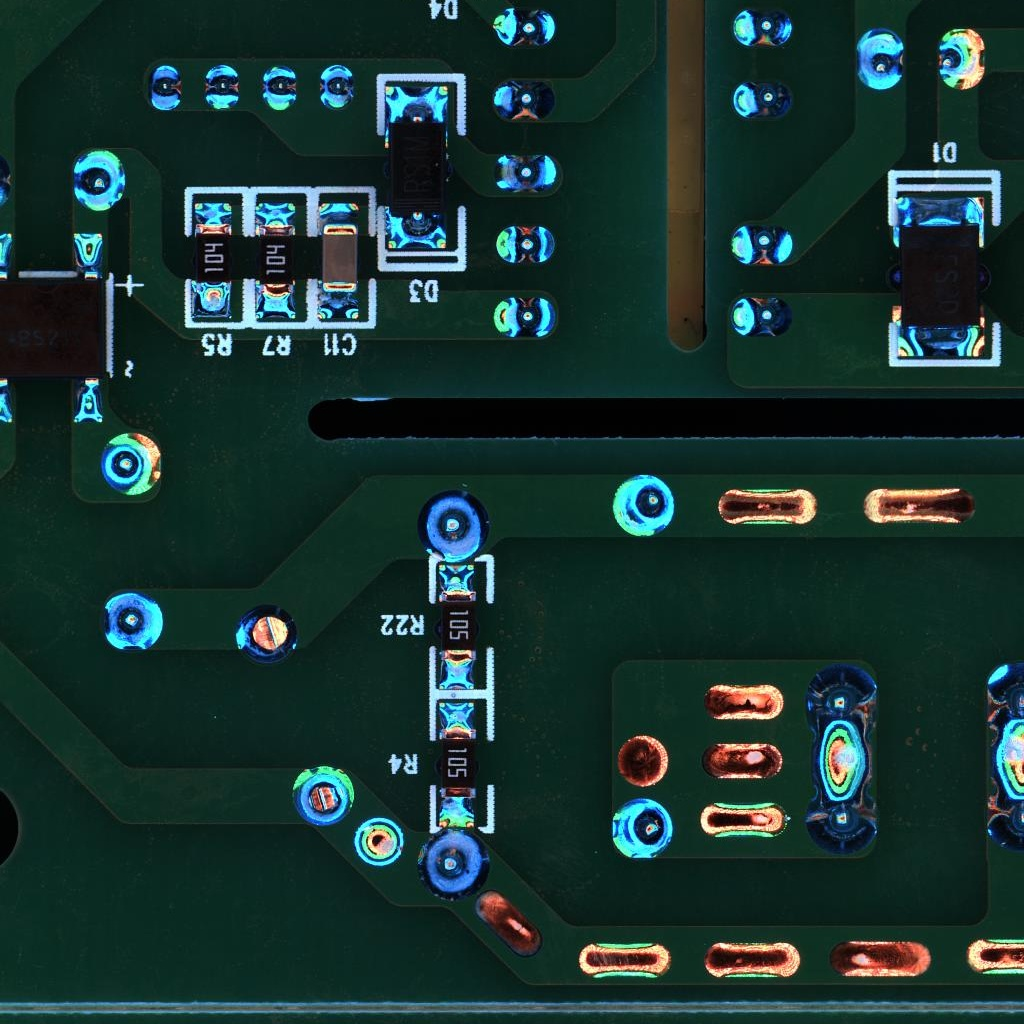spot: (803, 662, 882, 740), (411, 827, 492, 903), (804, 786, 883, 857), (418, 490, 490, 565), (608, 472, 678, 543), (98, 430, 166, 498), (234, 601, 299, 666), (608, 797, 675, 860), (97, 591, 165, 652), (291, 764, 356, 826), (68, 147, 127, 211), (937, 25, 989, 93), (853, 26, 905, 91), (488, 294, 558, 339), (982, 782, 1024, 857), (727, 222, 796, 266), (492, 150, 559, 195), (488, 7, 559, 48), (728, 293, 793, 337), (728, 6, 794, 49), (489, 78, 558, 119), (728, 78, 795, 120), (351, 816, 405, 868), (984, 660, 1024, 729), (492, 225, 558, 266), (258, 64, 301, 113), (201, 60, 240, 113), (316, 61, 358, 110), (146, 62, 185, 113)
